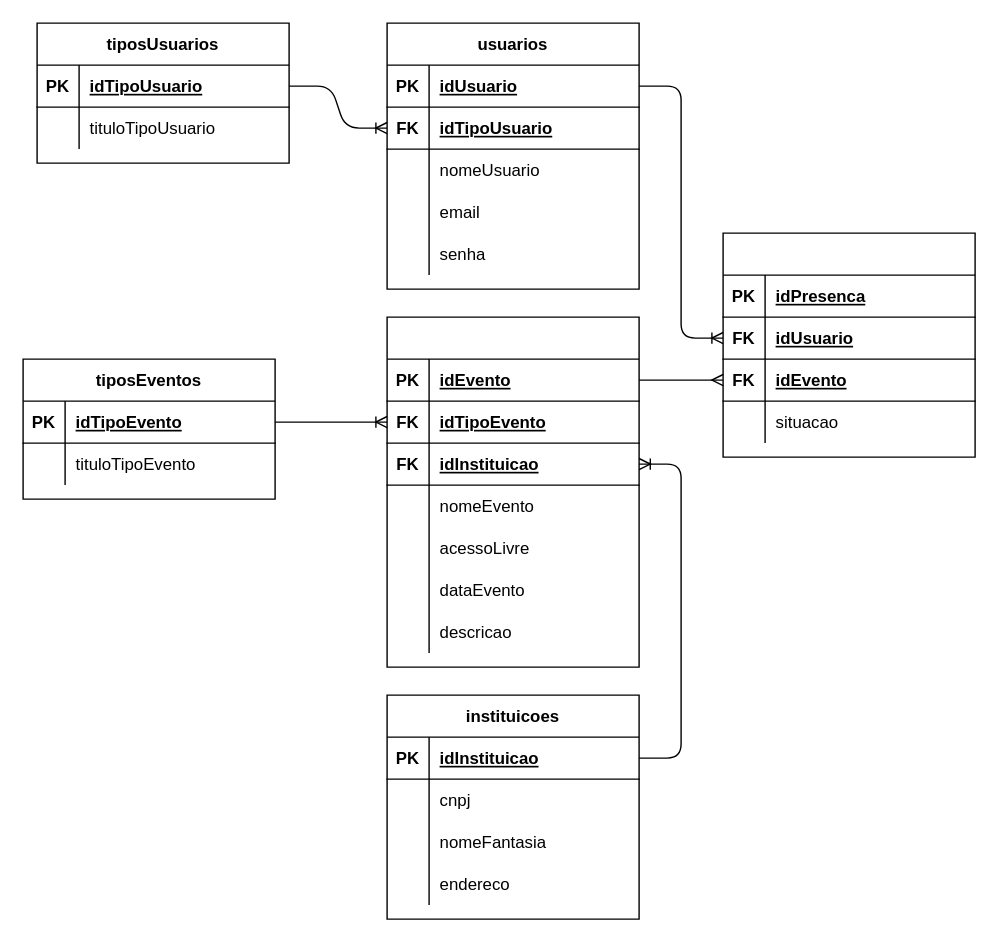
Some shapes in this 998 by 942 pixel diagram are drawn without their labels. The box of each missing label's shape, as (x1, y1, x2, y2) in pixels:
eventos: (386, 316, 639, 667)
presencas: (722, 232, 975, 457)
